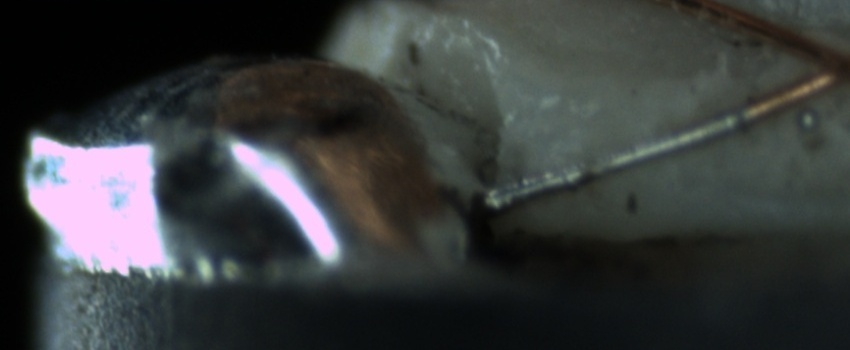CL: (773, 19, 846, 104)
TS: (483, 97, 751, 208)
